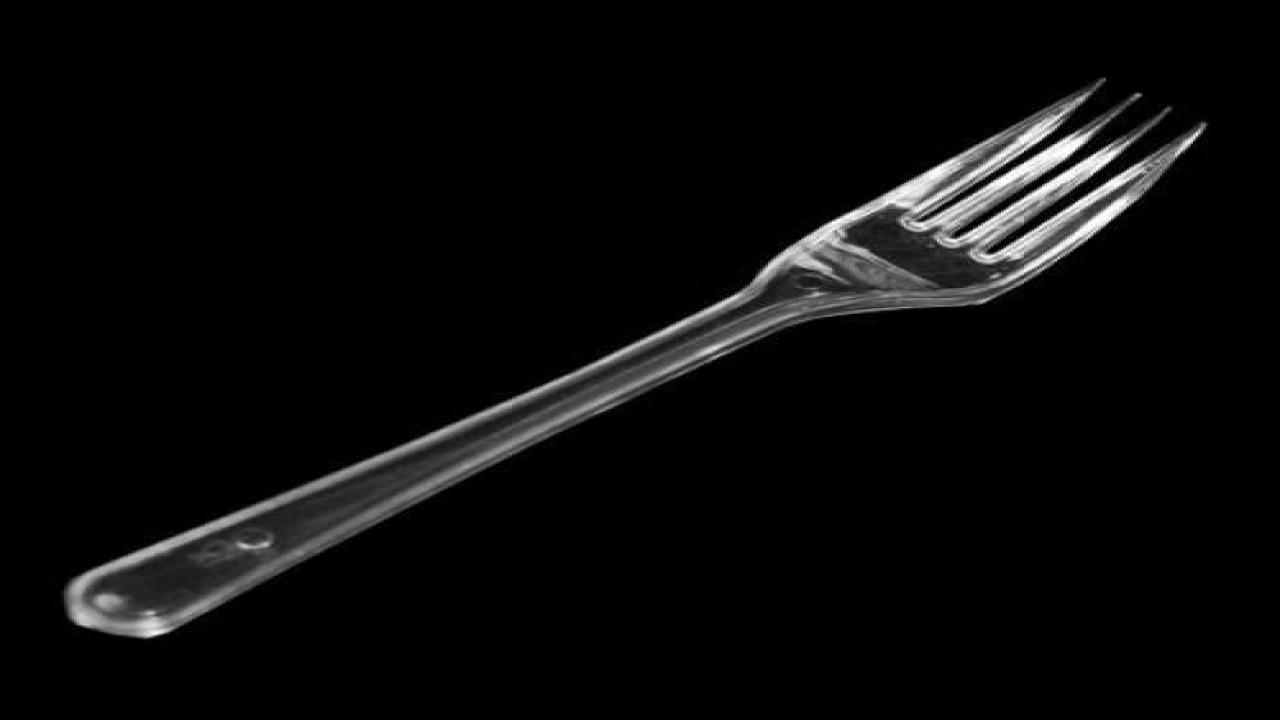fork: (59, 75, 1208, 639)
